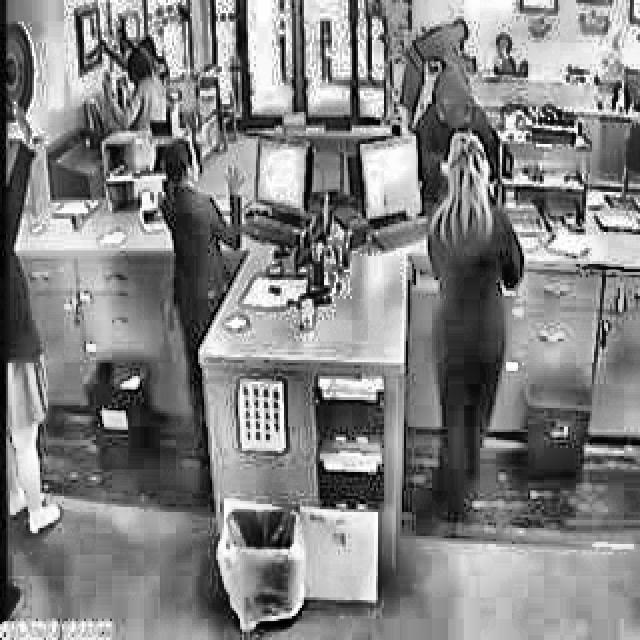robbery: (396, 9, 504, 195), (152, 135, 250, 256), (96, 17, 179, 134)
